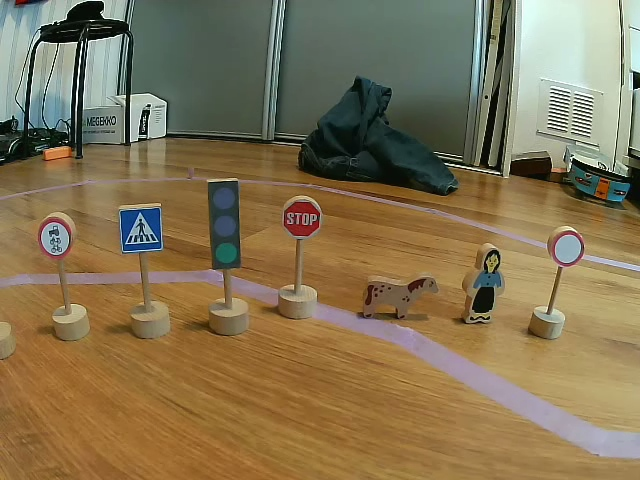fietspad: (38, 214, 73, 258)
groenlicht: (206, 178, 243, 271)
mens: (462, 242, 503, 322)
paard: (359, 273, 439, 320)
stopbord: (282, 196, 322, 238)
wegdicht: (551, 230, 584, 267)
zebrapad: (120, 204, 163, 253)
